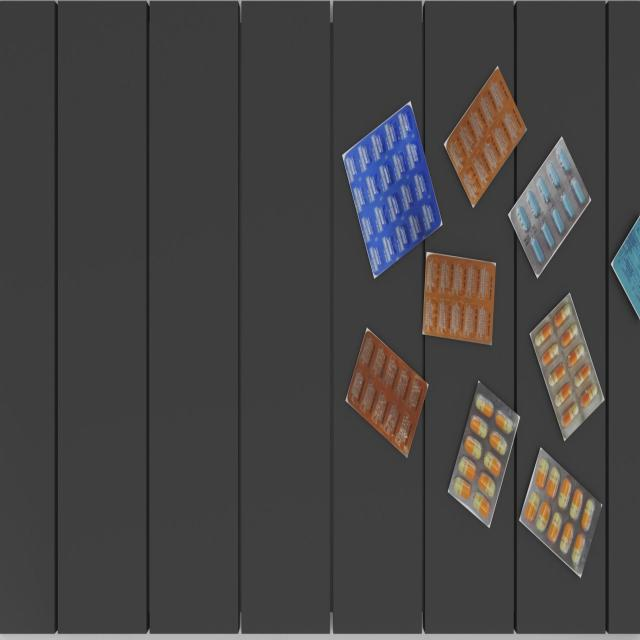blister: (333, 103, 444, 285), (444, 54, 527, 216), (442, 373, 521, 533), (506, 135, 593, 279), (526, 290, 606, 446), (338, 327, 430, 462), (516, 445, 602, 577), (420, 246, 500, 348)
